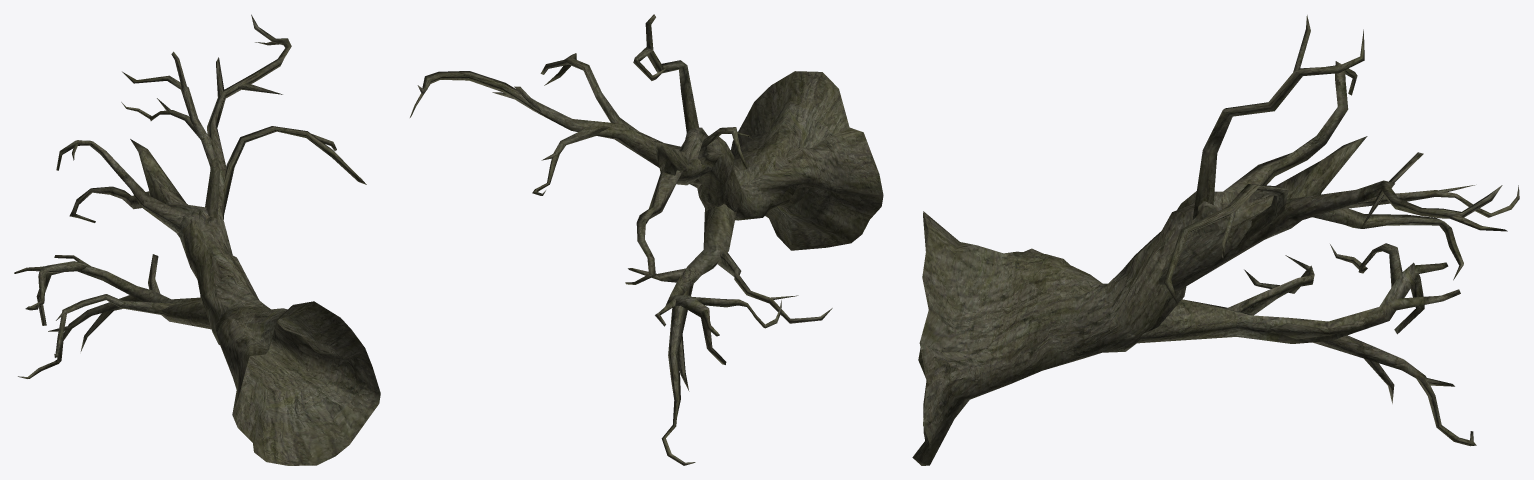
File: TI_Old_Tree_04_LOD_01.fbx
3 renders of one model, left to right at view 1: azimuth 30°, elevation 25°; view 2: azimuth 150°, elevation 25°; view 3: azimuth 270°, elevation 25°, orthographic. The views are drawn at different scales.
Visible parts, largest first — view 1: TI_Old_Tree_04_LOD_01; view 2: TI_Old_Tree_04_LOD_01; view 3: TI_Old_Tree_04_LOD_01.
Boxes of the visible parts, x1,y1,x2,y2 form: TI_Old_Tree_04_LOD_01: (14, 14, 380, 465); TI_Old_Tree_04_LOD_01: (410, 14, 883, 465); TI_Old_Tree_04_LOD_01: (912, 15, 1519, 465).
Bounding box in the file's own units: 8.07 × 8.87 × 9.95.
